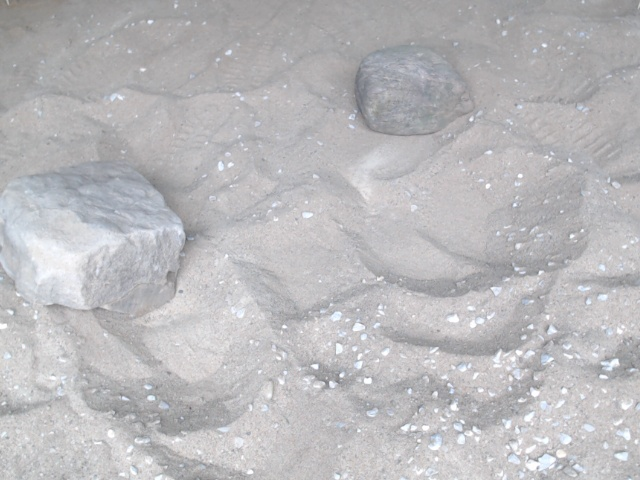rock: (1, 155, 192, 324), (349, 40, 478, 141)
